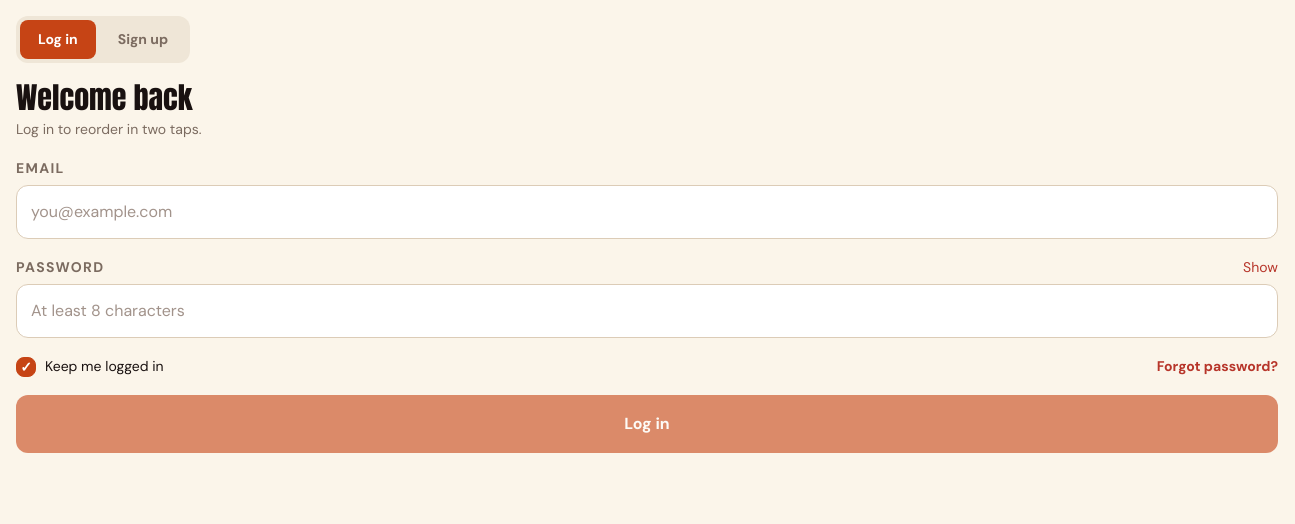
Test: real-time validation › keeps Log in disabled until every rule passes, not just until fields are non-empty
Type "liza@example.com" into the field labelled "Email".
click(647, 212); type("liza@example.com")  # box [16, 185, 1278, 239]
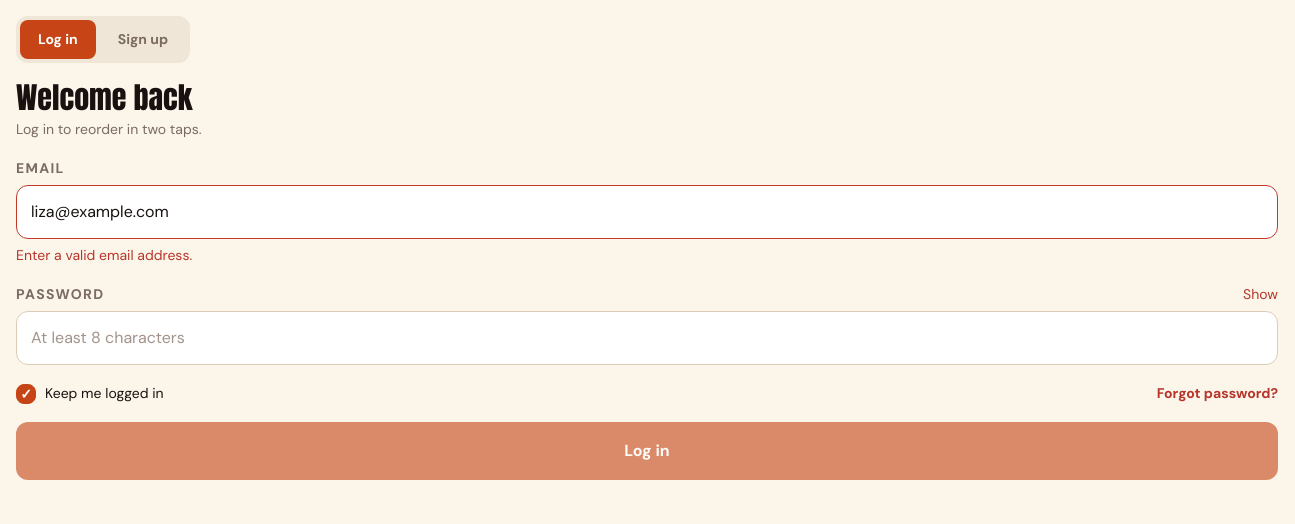
Type "short" into the password field labelled "Password".
click(647, 338); type("short")  # box [16, 311, 1278, 365]
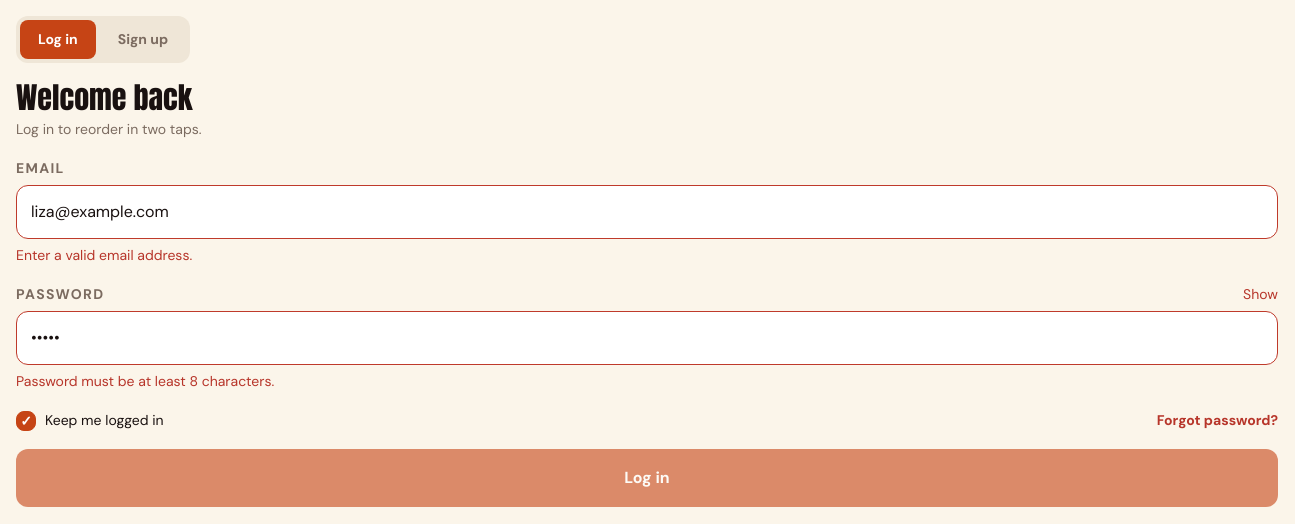
Expected: the button "Log in" is disabled, [16, 449, 1278, 507]
Type "Long-enough-Passw0rd" into the password field labelled "Password".
click(647, 338); type("Long-enough-Passw0rd")  # box [16, 311, 1278, 365]
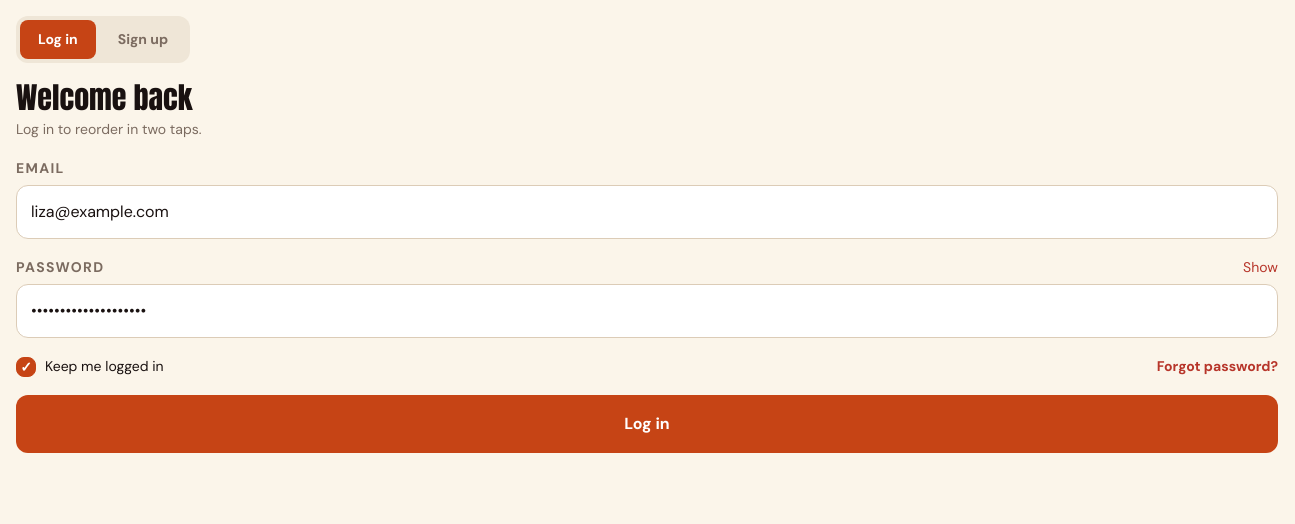
Expected: the button "Log in" is enabled, [16, 395, 1278, 453]
